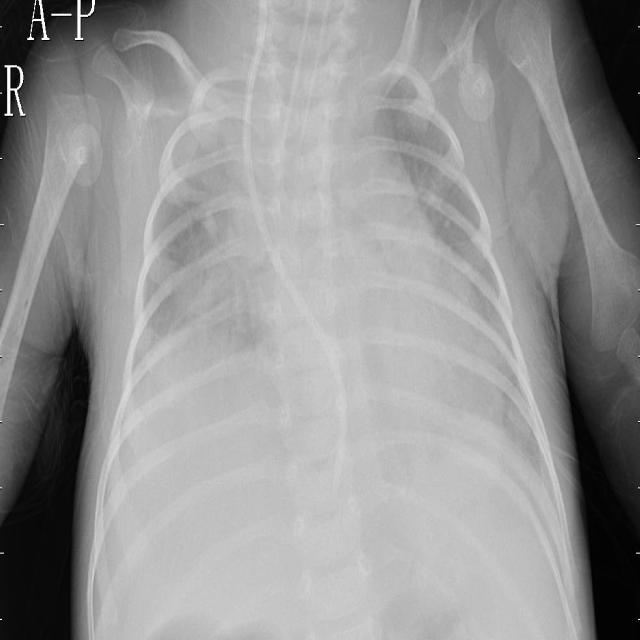high-pneumonia: (155, 164, 256, 392)
